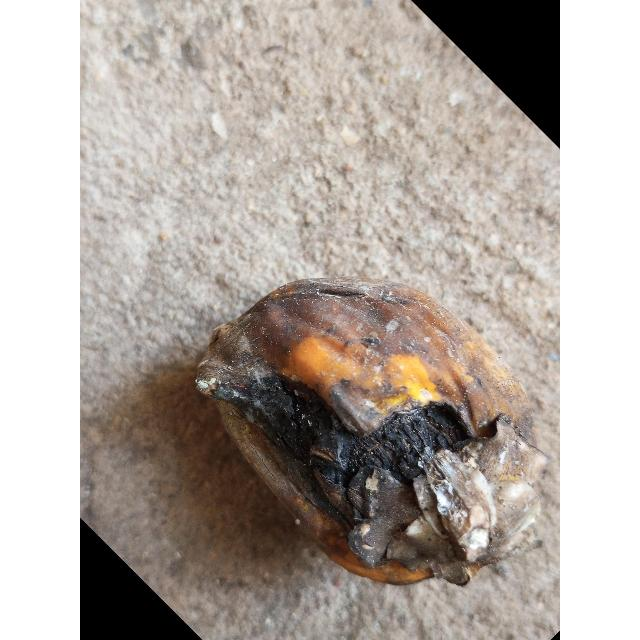damaged: (196, 280, 547, 586)
